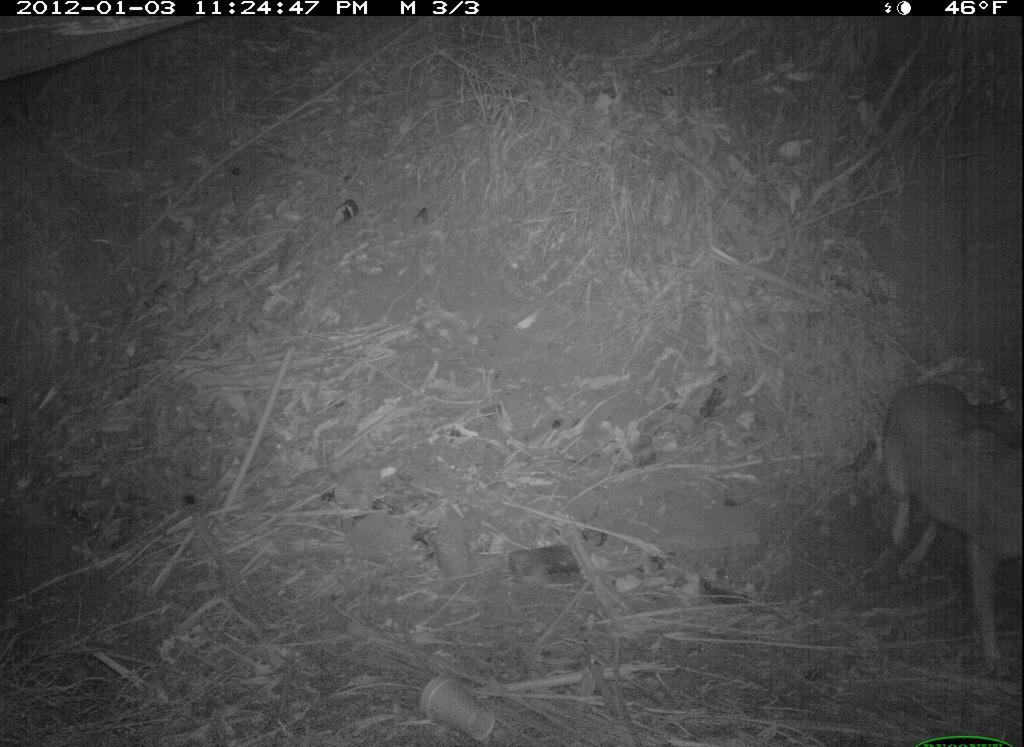coyote: (865, 360, 1023, 685)
